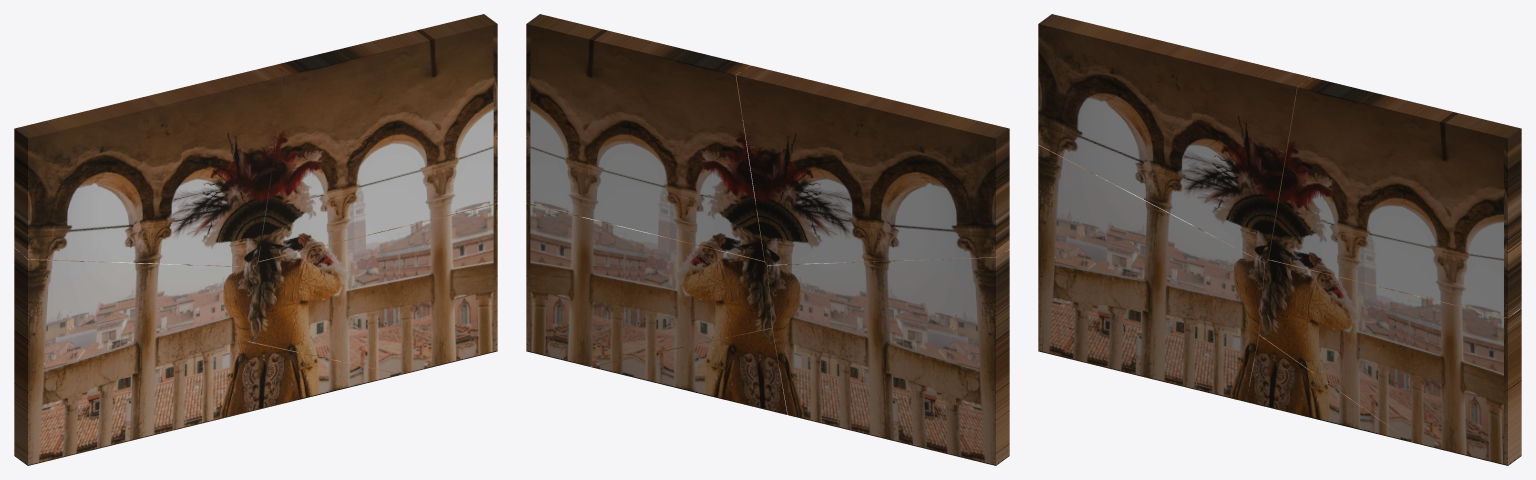
Rendered from background_fractured.glb.
3 views of the same model, side by side, from view 1: azimuth 30°, elevation 25°; view 2: azimuth 150°, elevation 25°; view 3: azimuth 330°, elevation 25° (orthographic).
Visible parts, largest first — view 1: Plane_cell.002, Plane_cell.005, Plane_cell.003, Plane_cell.001, Plane_cell.004; view 2: Plane_cell.002, Plane_cell.005, Plane_cell.003, Plane_cell.001, Plane_cell.004; view 3: Plane_cell.002, Plane_cell.005, Plane_cell.003, Plane_cell.001, Plane_cell.004.
Part boxes in pixels (x1,y1,x2,y2): Plane_cell.002: (258, 14, 497, 261); Plane_cell.005: (14, 65, 286, 266); Plane_cell.003: (14, 247, 254, 465); Plane_cell.001: (248, 203, 497, 374); Plane_cell.004: (235, 341, 401, 414); Plane_cell.002: (526, 14, 764, 261); Plane_cell.005: (736, 65, 1009, 264); Plane_cell.003: (767, 249, 1009, 465); Plane_cell.001: (526, 203, 772, 366); Plane_cell.004: (591, 328, 787, 414); Plane_cell.002: (1269, 77, 1521, 317); Plane_cell.005: (1038, 14, 1311, 262); Plane_cell.003: (1038, 145, 1265, 401); Plane_cell.001: (1259, 259, 1521, 465); Plane_cell.004: (1246, 335, 1412, 442).
Size of the model in its own units: 2 by 1.33 by 0.1.
Materials: 1 (1 with a texture image).
